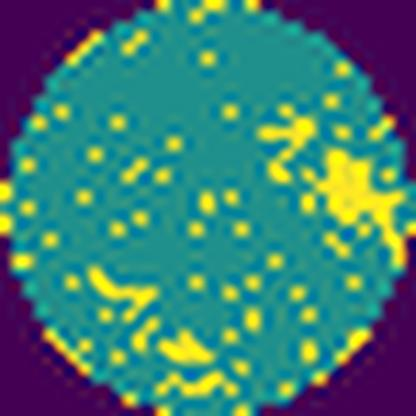Edge-Loc: (304, 149, 405, 271), (91, 260, 155, 319), (260, 115, 314, 183), (157, 332, 215, 369)
